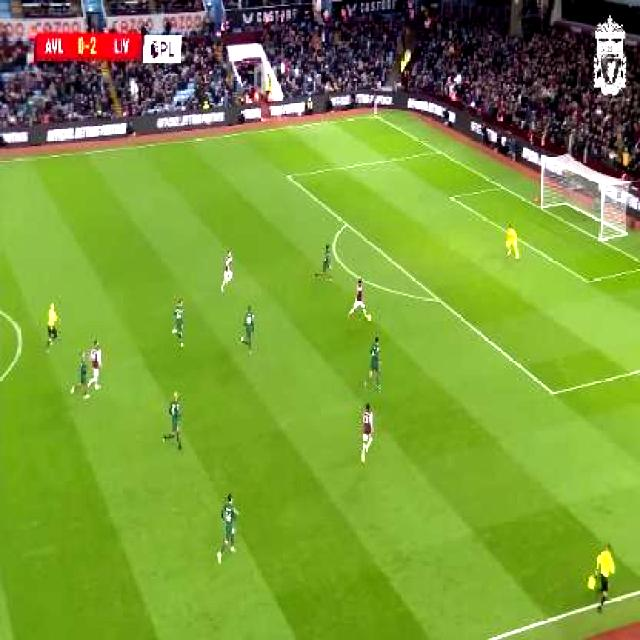bigarea_bottom_inner: (544, 380, 562, 403)
bigarea_top_inner: (280, 166, 294, 185)
bigarea_top_outter: (432, 144, 445, 158)
bottom_arc_area_intersection: (429, 289, 445, 308)
corner: (366, 109, 382, 122)
smallarea_bottom_inner: (578, 269, 594, 289)
smallarea_top_inner: (443, 189, 457, 205)
smallarea_top_outter: (494, 178, 508, 194)
top_arc_area_intersection: (338, 215, 352, 231)
